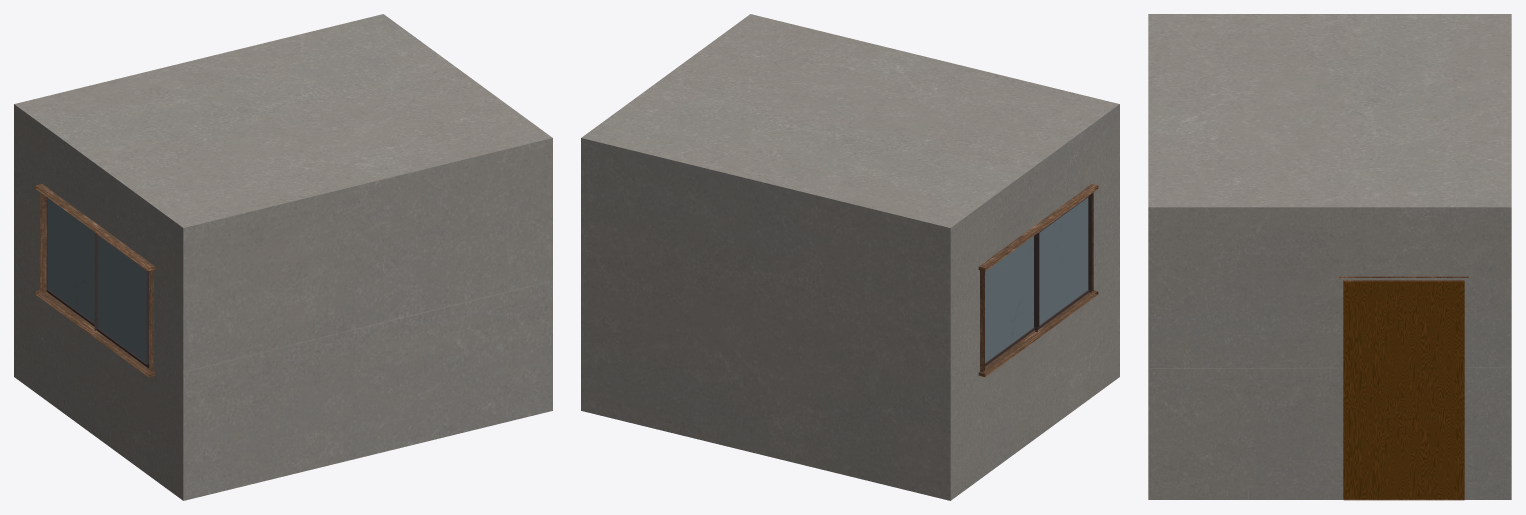
File: Room_Base.fbx
The picture shows the model from 3 angles, left to right: view 1: azimuth 30°, elevation 25°; view 2: azimuth 150°, elevation 25°; view 3: azimuth 270°, elevation 25°; orthographic projection. The views are drawn at different scales.
Parts seen in each view (by area): view 1: Room_geo, Window_L_geo, Window_R_geo; view 2: Room_geo, Window_L_geo, Window_R_geo; view 3: Room_geo.
Boxes of the visible parts, x1,y1,x2,y2 form: Room_geo: (14,14,552,500); Window_L_geo: (94,232,150,369); Window_R_geo: (44,197,94,326); Room_geo: (581,14,1119,500); Window_L_geo: (1035,194,1091,332); Window_R_geo: (985,235,1035,366); Room_geo: (1148,14,1511,500).
Size of the model in its own units: 348 by 240 by 270.
